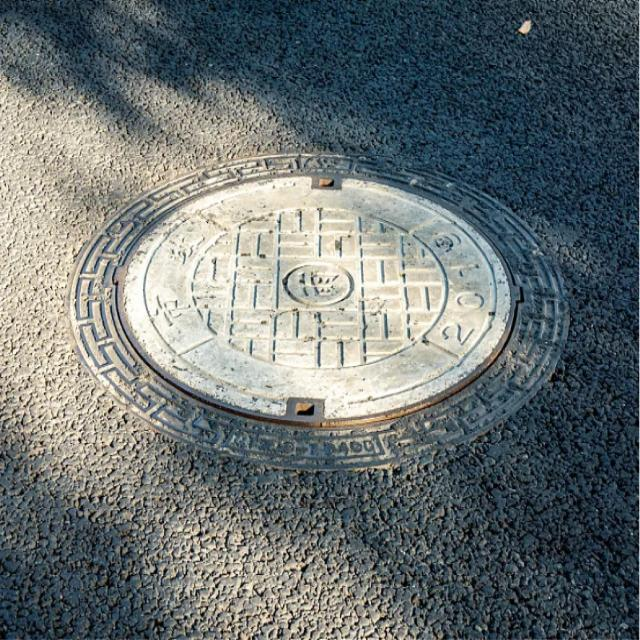manhole: (69, 154, 568, 469)
